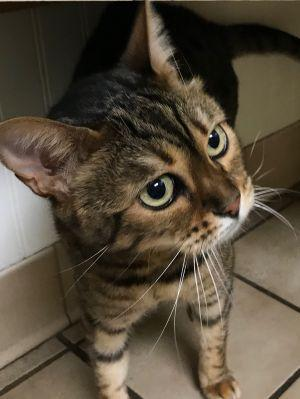bengal: (1, 1, 290, 286)
